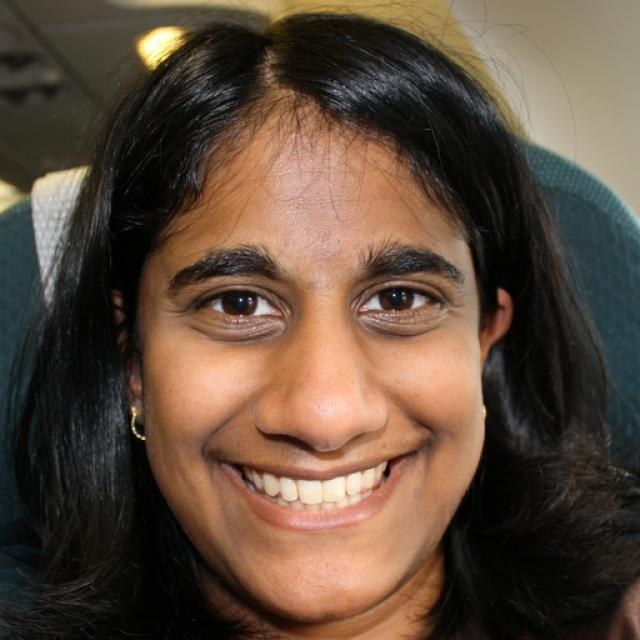Dark Circle: (355, 301, 447, 338), (193, 314, 287, 342)
